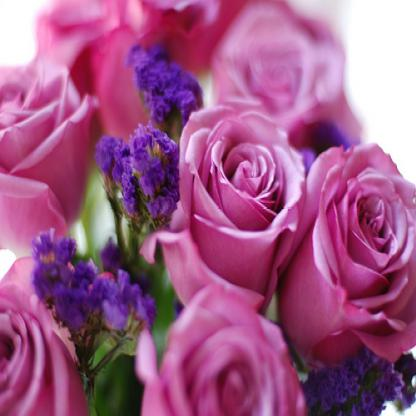ROSE-MAWAR: (4, 21, 416, 416)
